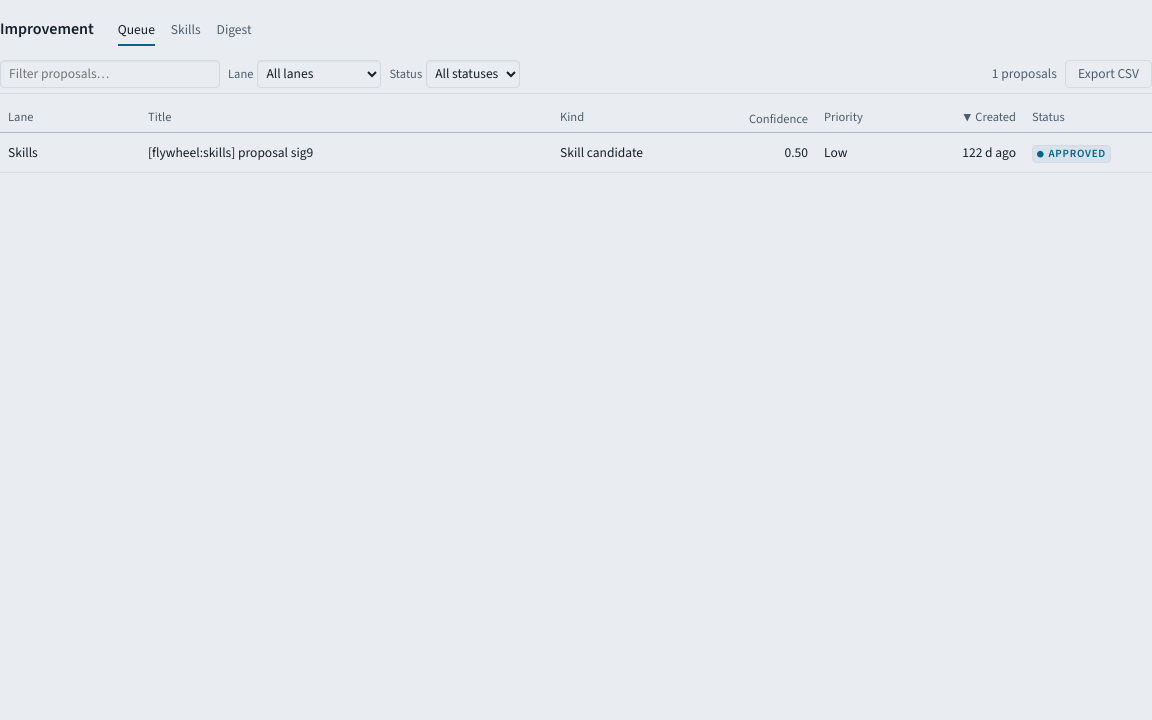
Test: §11 pane — a skill candidate › renders the candidate field by field with §11's warning line, verbatim
Click the text "[flywheel:skills] proposal sig9" at (231, 152), box [140,132,552,172]
(page scrolled)
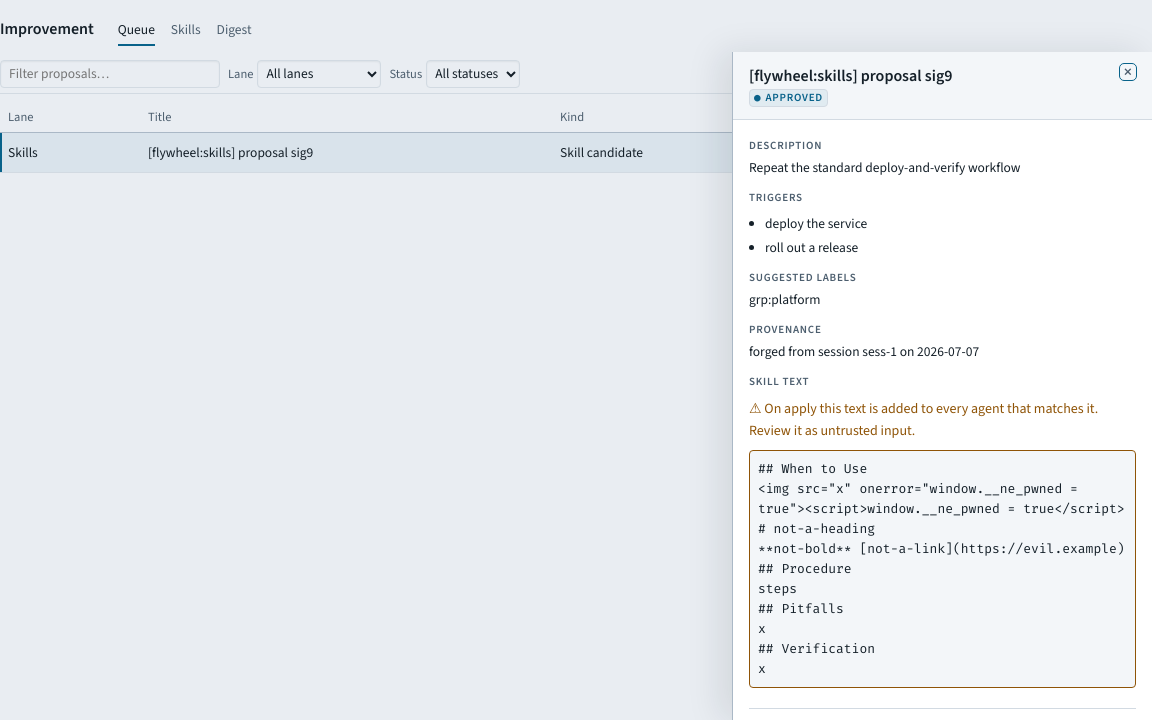
Result: the text "Repeat the standard deploy-and-verify workflow" is shown at [749,158,1021,177]
Result: the list item "deploy the service" is shown at [765,214,867,233]
Result: the text "grp:platform" is shown at [749,290,820,309]
